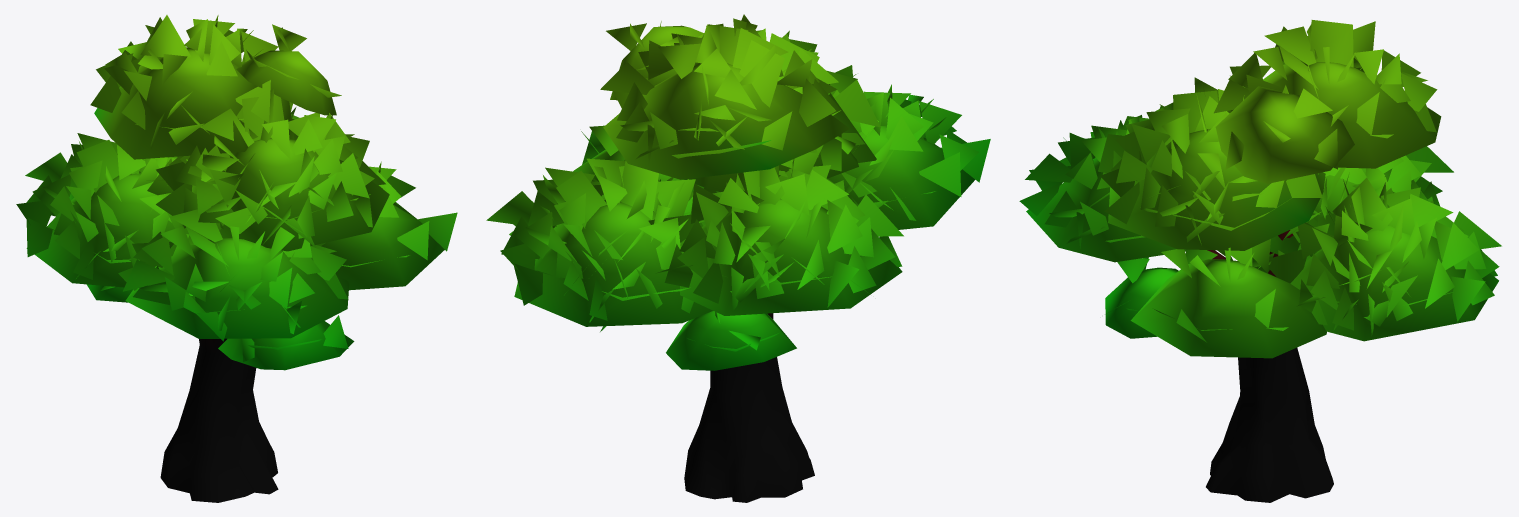
The model's file is tree_big_lod_2.glb.
The picture shows the model from 3 angles, left to right: view 1: azimuth 30°, elevation 25°; view 2: azimuth 150°, elevation 25°; view 3: azimuth 270°, elevation 25°; orthographic projection. The views are drawn at different scales.
Parts seen in each view (by area): view 1: tree_1_LOD2; view 2: tree_1_LOD2; view 3: tree_1_LOD2.
Boxes of the visible parts, x1,y1,x2,y2 form: tree_1_LOD2: (16,15,457,502); tree_1_LOD2: (486,14,990,502); tree_1_LOD2: (1019,20,1501,502).
Size of the model in its own units: 13.53 by 16.13 by 15.62.
